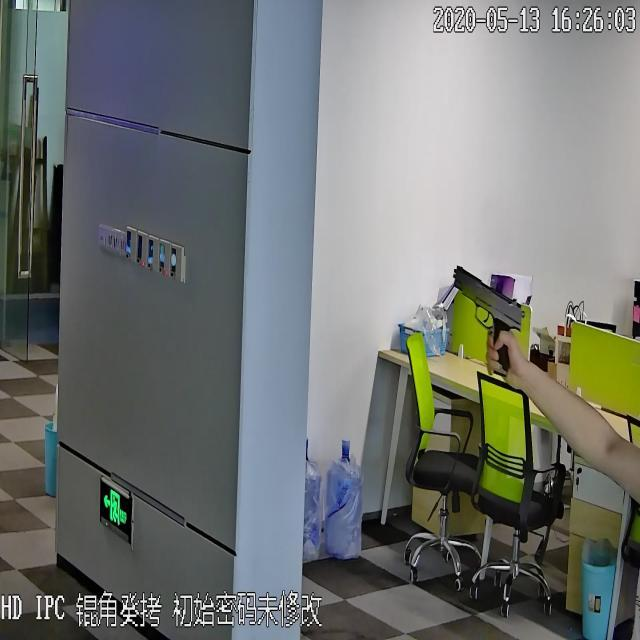gun: (448, 257, 524, 369)
